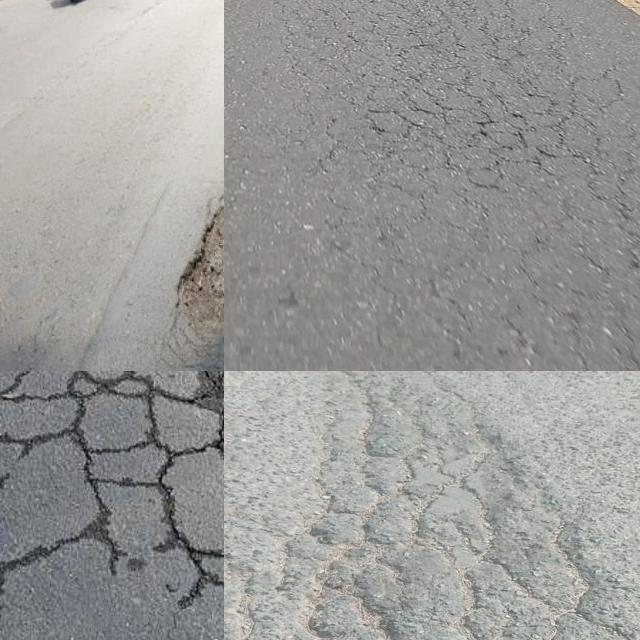Lubang: (174, 202, 224, 348)
Retak Buaya: (251, 371, 630, 640), (308, 0, 639, 234), (0, 371, 224, 640)
